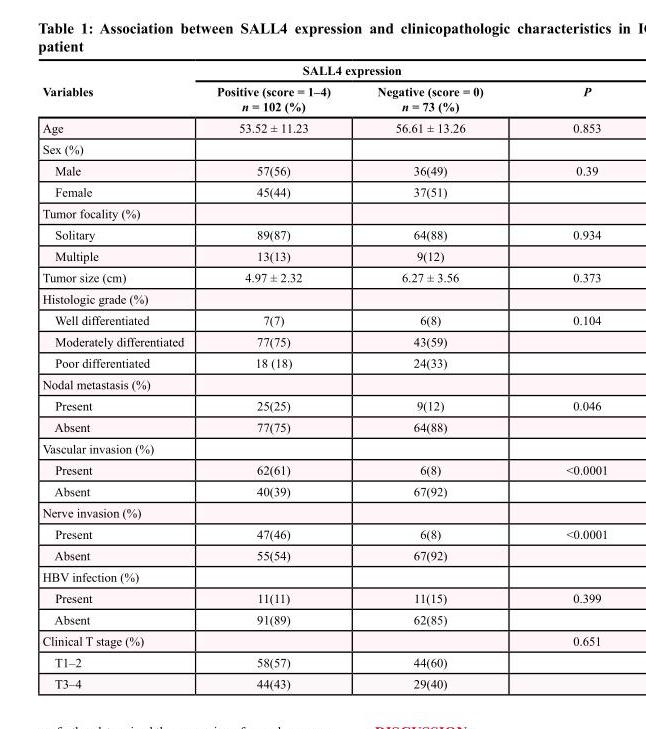table: (37, 37, 607, 690)
table column: (353, 37, 524, 690), (37, 37, 199, 690), (199, 37, 353, 690), (524, 37, 607, 690)
table column header: (37, 37, 607, 116)
table projected row header: (37, 287, 607, 309), (37, 565, 607, 587), (37, 138, 607, 159), (37, 202, 607, 223), (37, 373, 607, 394), (37, 437, 607, 458), (37, 501, 607, 522)
table row: (37, 37, 607, 80), (37, 80, 607, 116), (37, 116, 607, 138), (37, 180, 607, 202), (37, 223, 607, 245), (37, 287, 607, 309), (37, 351, 607, 373), (37, 394, 607, 416), (37, 458, 607, 480), (37, 522, 607, 544), (37, 565, 607, 587), (37, 629, 607, 651), (37, 138, 607, 159), (37, 159, 607, 180), (37, 202, 607, 223), (37, 245, 607, 266), (37, 266, 607, 287), (37, 309, 607, 330), (37, 330, 607, 351), (37, 373, 607, 394), (37, 416, 607, 437), (37, 437, 607, 458), (37, 480, 607, 501), (37, 501, 607, 522), (37, 544, 607, 565), (37, 587, 607, 608), (37, 608, 607, 629), (37, 651, 607, 672), (37, 672, 607, 690)
table spanning cell: (199, 37, 607, 80), (37, 37, 199, 116)
